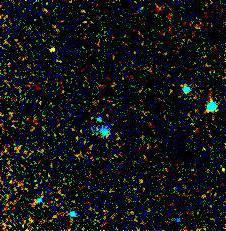star: (33, 36, 63, 66)
